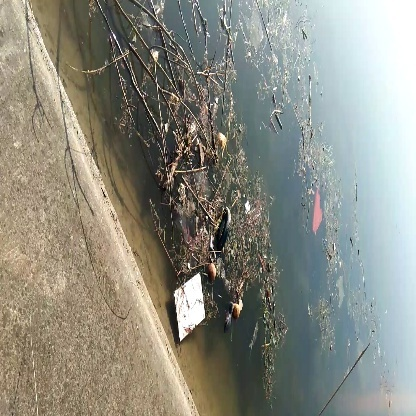plastic-garbage: (170, 268, 211, 344)
